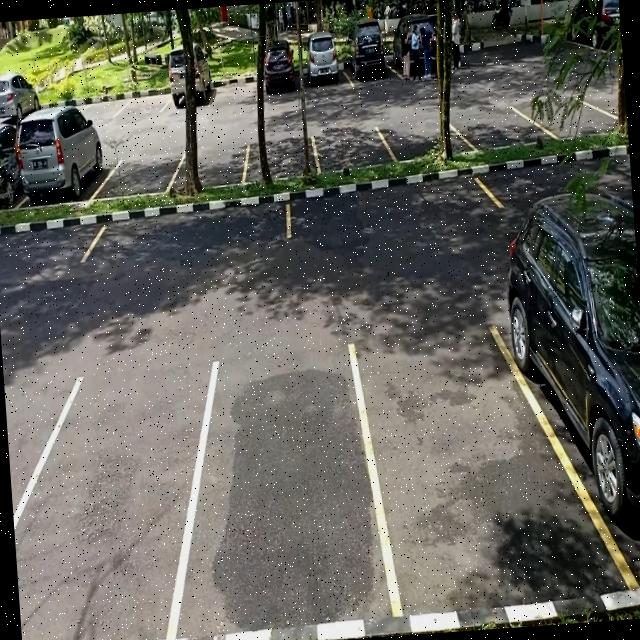empty: (352, 324, 580, 614), (3, 365, 221, 640), (185, 343, 387, 638), (79, 194, 292, 272), (284, 170, 501, 243), (448, 100, 541, 158), (383, 111, 463, 166), (102, 151, 186, 203), (310, 124, 394, 174), (240, 136, 318, 186), (178, 142, 252, 193), (112, 80, 172, 122), (208, 67, 260, 107)
occupied: (502, 234, 640, 598), (16, 113, 109, 206), (158, 52, 216, 115), (344, 22, 394, 86), (298, 34, 349, 94), (254, 44, 304, 101), (0, 119, 24, 217)
